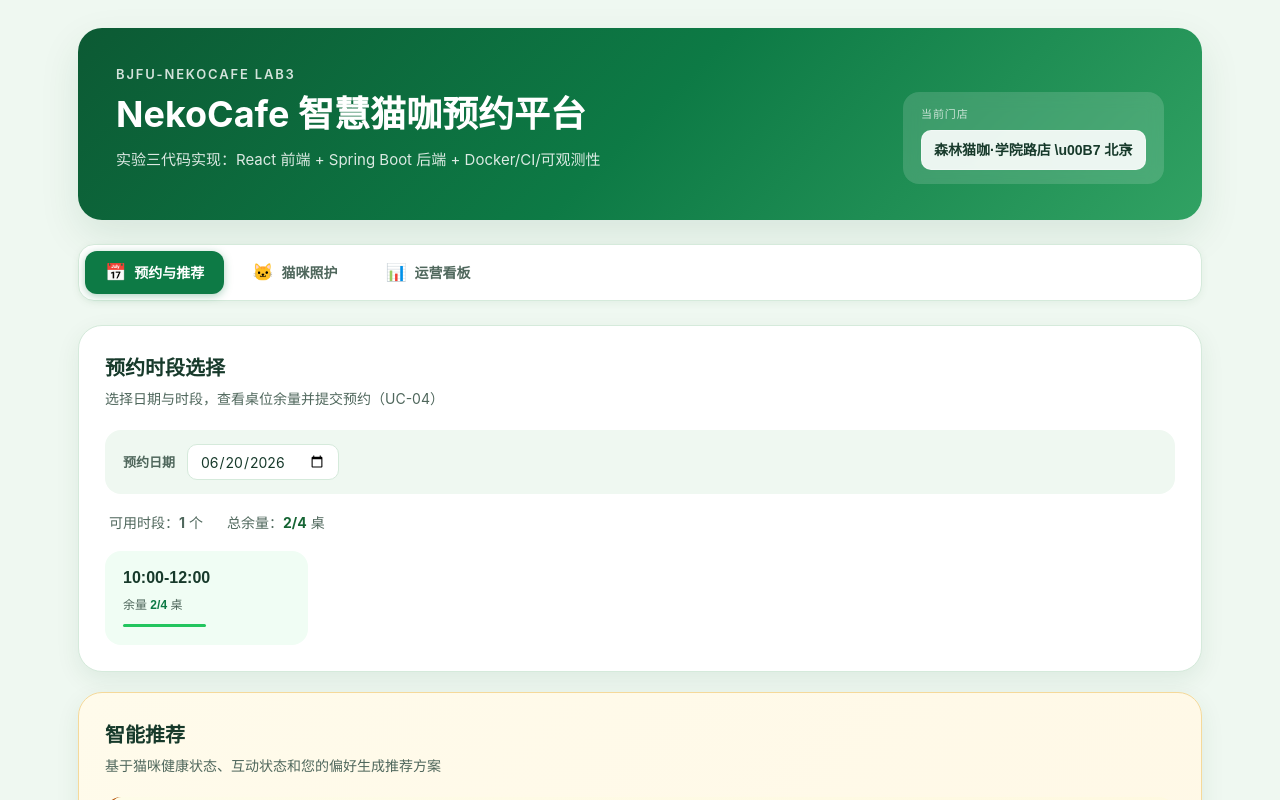
Scenario: Reservation page › shows backend error when slot is full
The image size is (1280, 800).
Click the text "10:00-12:00" at {"x": 167, "y": 578}, box [123,569,210,587]
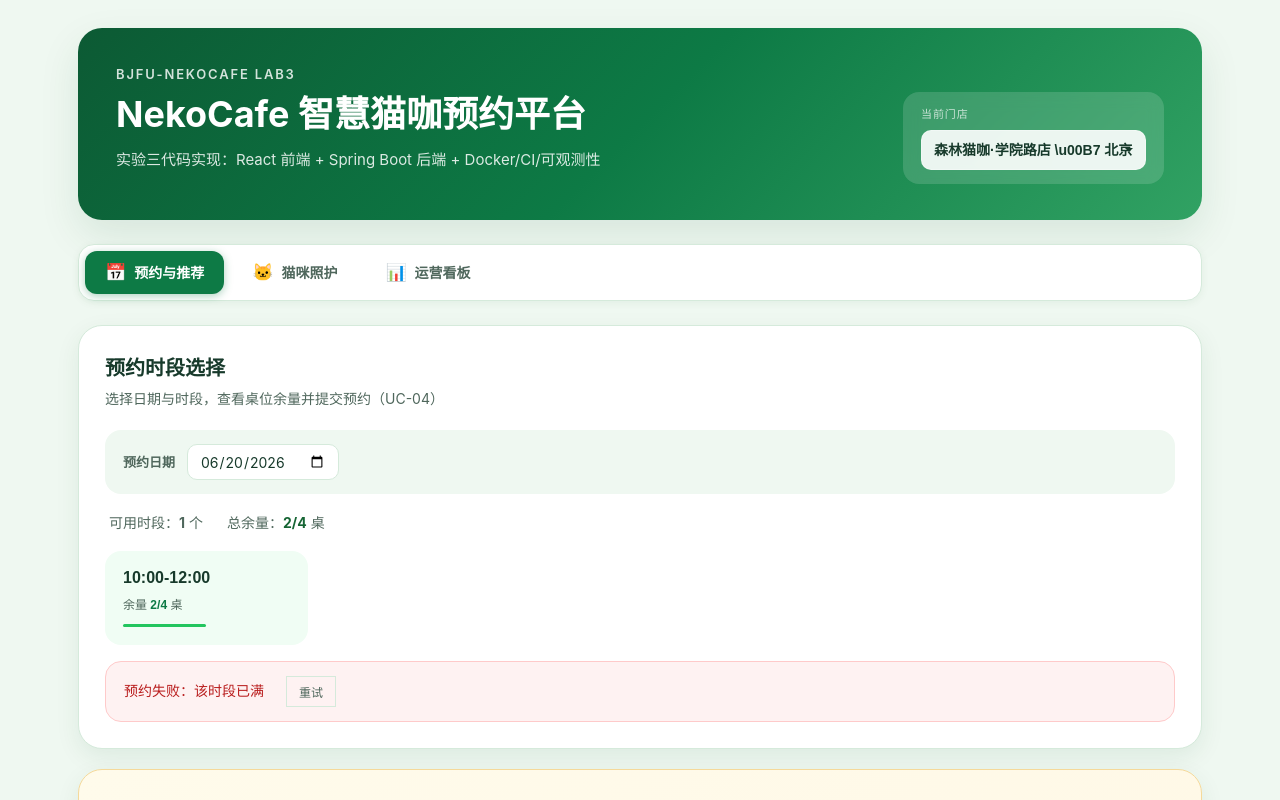
Expected: the text "预约失败：该时段已满 重试" is shown, [105,661,1175,722]
